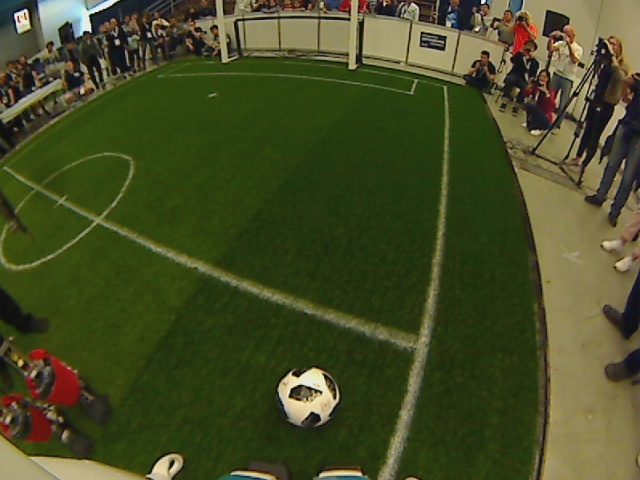ball: (277, 363, 340, 430)
goalpost: (338, 54, 367, 80), (215, 42, 235, 72)
robot: (1, 329, 112, 461)
